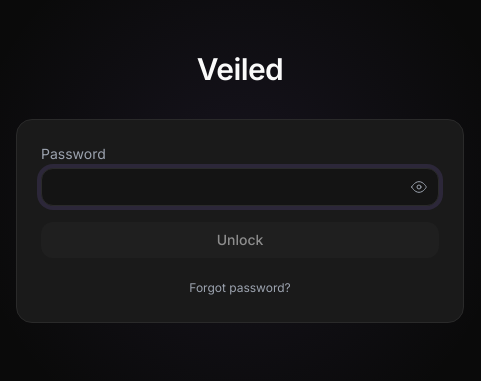
Test case: WalletUnlock › clears error when typing new password
Type "wrong" into the password field at (240, 187), box [41,168,439,206]
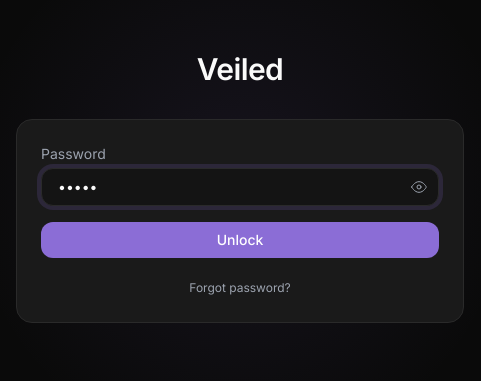
Click the button "Unlock" at (240, 240), box [41,222,439,258]
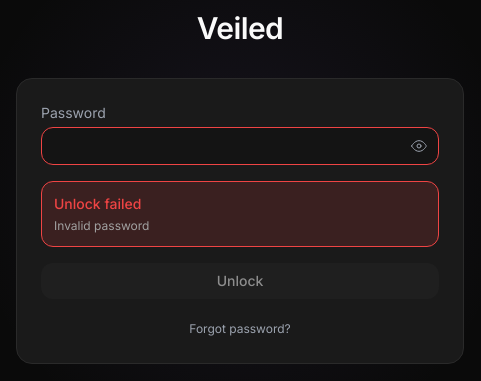
Now the message "Unlock failed Invalid password" is shown, box [41,181,439,247]
Type "new" into the password field at (240, 146), box [41,127,439,165]
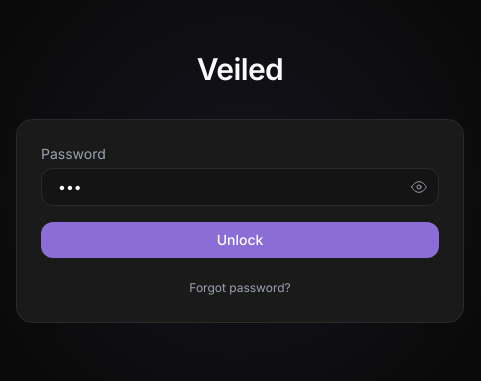
Now the message "Unlock failed Invalid password" is gone
